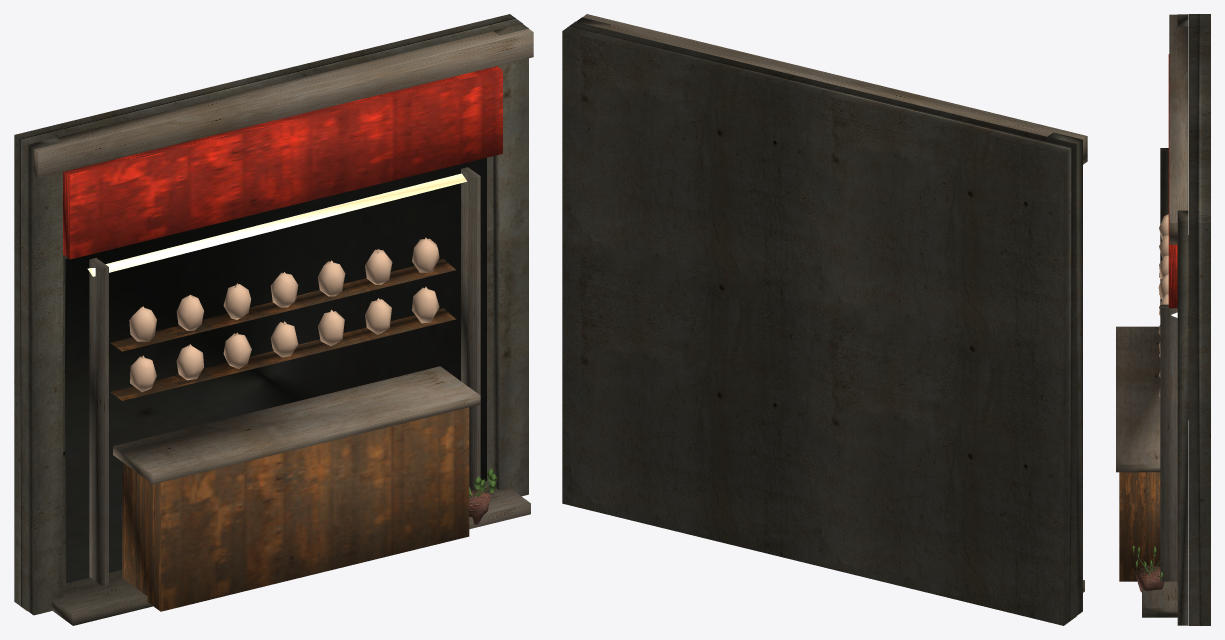
The model's file is mat_tien_tret_04_lod1.glb.
The picture shows the model from 3 angles, left to right: view 1: azimuth 30°, elevation 25°; view 2: azimuth 150°, elevation 25°; view 3: azimuth 270°, elevation 25°; orthographic projection. The views are drawn at different scales.
Visible parts, largest first — view 1: mat_tien_tret_04.001; view 2: mat_tien_tret_04.001; view 3: mat_tien_tret_04.001.
Part boxes in pixels (box(x1,y1,x2,y2)): mat_tien_tret_04.001: box(14, 14, 533, 625); mat_tien_tret_04.001: box(562, 14, 1087, 625); mat_tien_tret_04.001: box(1116, 14, 1210, 625).
Size of the model in its own units: 4 by 3.6 by 0.767.
3 materials, 2 textured.
